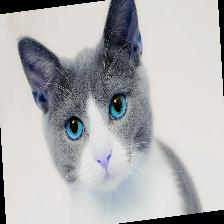kedo: (17, 0, 206, 223)
